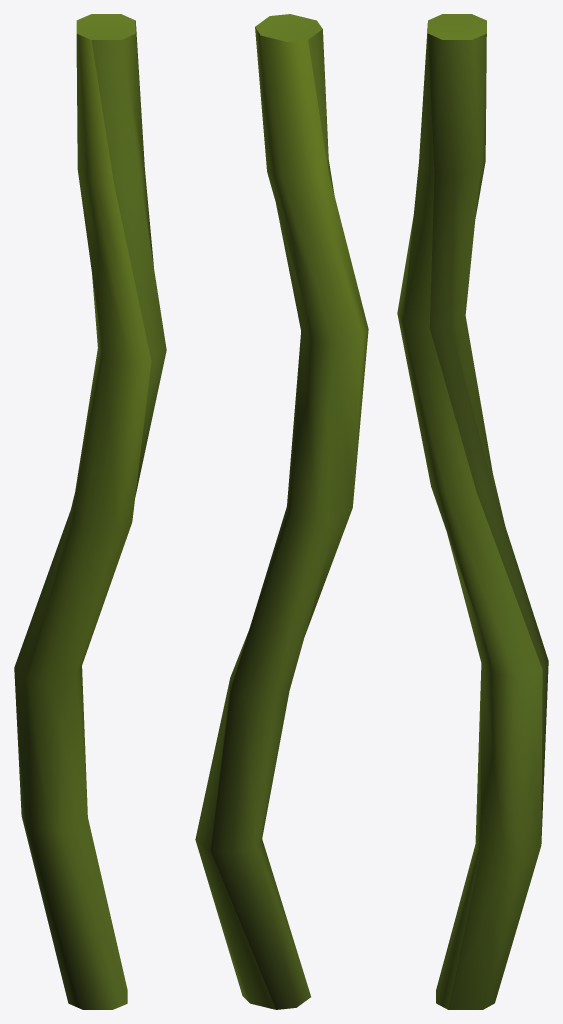
Rendered from vine6.fbx.
3 renders of one model, left to right at view 1: azimuth 90°, elevation 25°; view 2: azimuth 150°, elevation 25°; view 3: azimuth 270°, elevation 25°, orthographic.
Parts seen in each view (by area): view 1: vine6; view 2: vine6; view 3: vine6.
Part boxes in pixels (x1=…): vine6: x1=14, y1=14, x2=166, y2=1009; vine6: x1=195, y1=14, x2=368, y2=1009; vine6: x1=397, y1=14, x2=548, y2=1009.
Bounding box in the file's own units: 31.81 × 233 × 33.12.
1 material, 1 textured.
